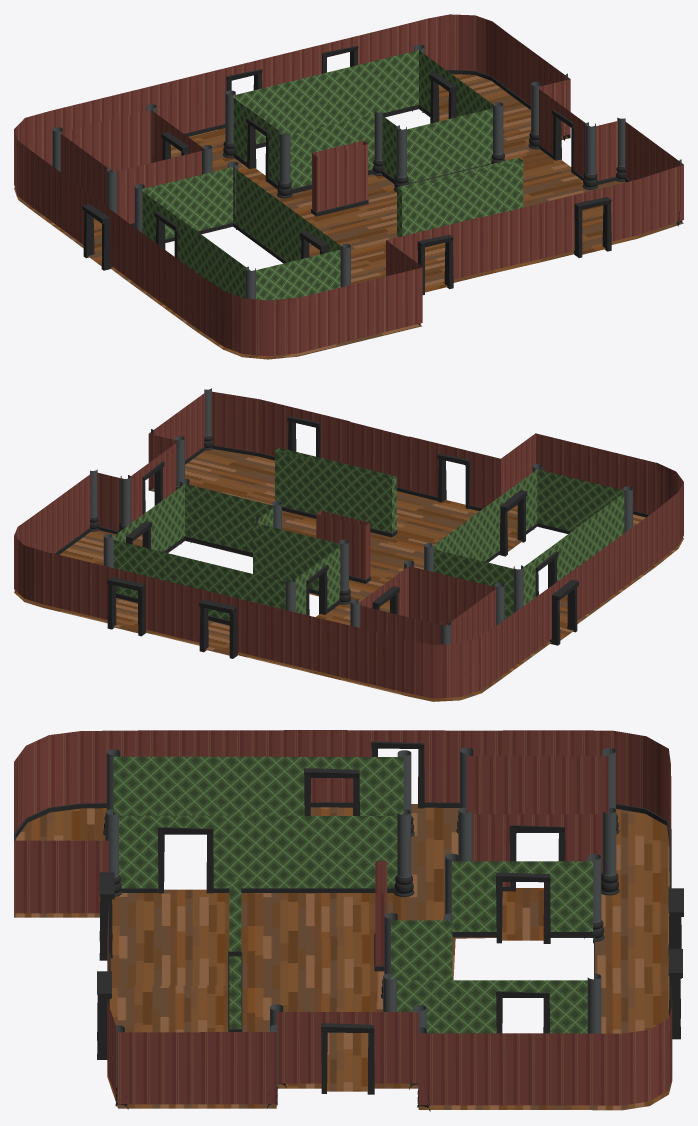
Rendered from map.fbx.
3 renders of one model, top to bottom at view 1: azimuth 30°, elevation 25°; view 2: azimuth 150°, elevation 25°; view 3: azimuth 270°, elevation 25°, orthographic. The views are drawn at different scales.
Parts seen in each view (by area): view 1: pCube25; view 2: pCube25; view 3: pCube25.
Part boxes in pixels (bbox=[...]): pCube25: bbox=[14, 14, 683, 359]; pCube25: bbox=[14, 388, 683, 701]; pCube25: bbox=[14, 730, 683, 1111].
Size of the model in its own units: 35.01 by 4.4 by 32.16.
4 materials, 4 textured.
